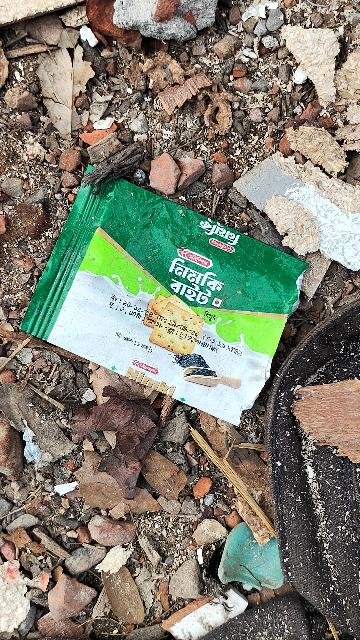packet: (17, 157, 314, 434)
